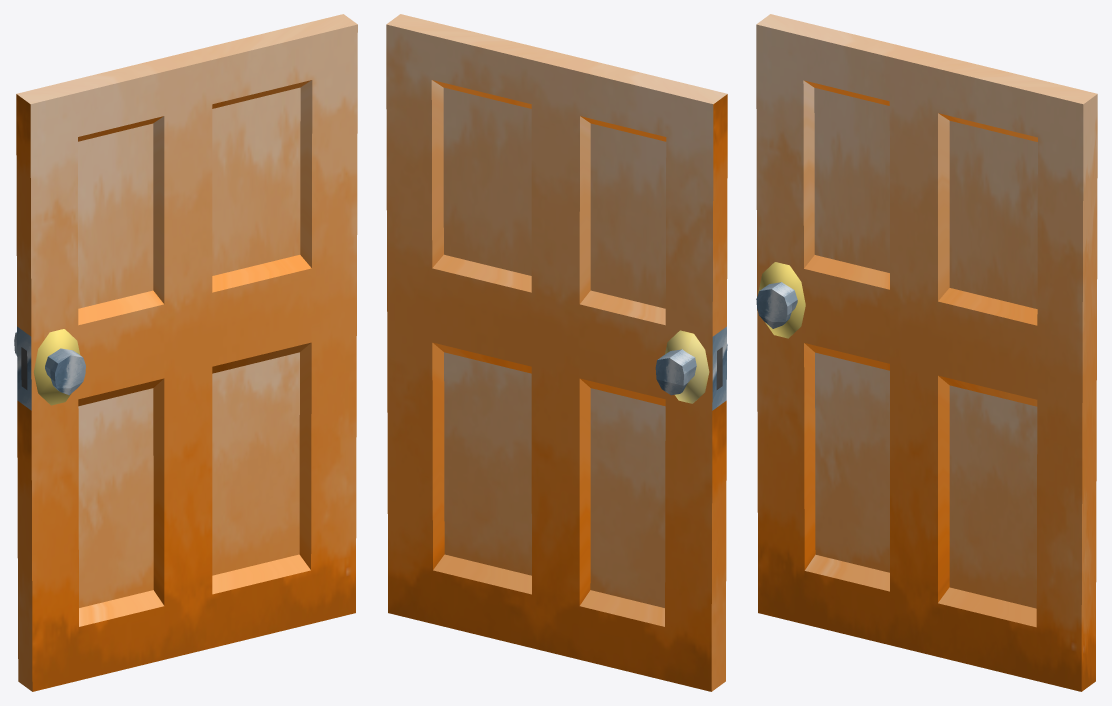
File: Obj_Door_003.gltf
3 renders of one model, left to right at view 1: azimuth 30°, elevation 25°; view 2: azimuth 150°, elevation 25°; view 3: azimuth 330°, elevation 25°, orthographic.
Visible parts, largest first — view 1: Obj_Door_003, Obj_DoorHandle.003; view 2: Obj_Door_003, Obj_DoorHandle.003; view 3: Obj_Door_003, Obj_DoorHandle.003.
Boxes of the visible parts, x1,y1,x2,y2 form: Obj_Door_003: (16,14,357,691); Obj_DoorHandle.003: (14,332,85,395); Obj_Door_003: (386,14,727,691); Obj_DoorHandle.003: (655,344,727,395); Obj_Door_003: (756,14,1097,691); Obj_DoorHandle.003: (756,282,797,328).
Size of what is drawn, in the model's own units: 1.48 by 2.55 by 0.3342.
1 material, 1 textured.
